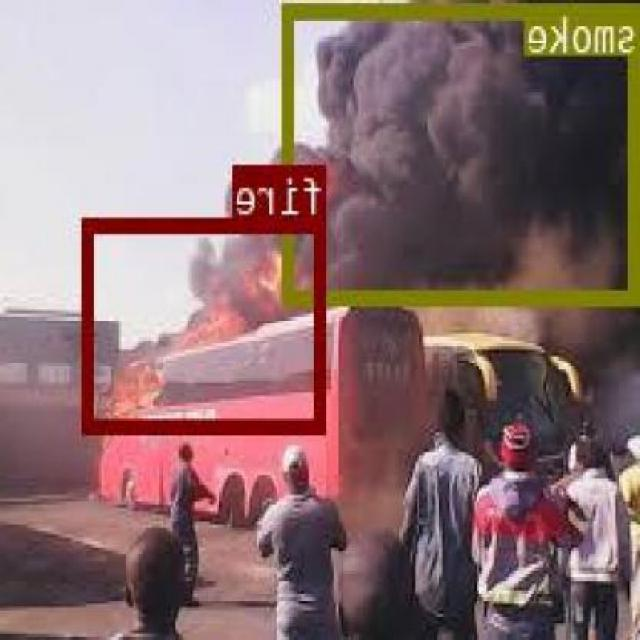Fire: (84, 216, 327, 432)
Smoke: (286, 2, 640, 302)
